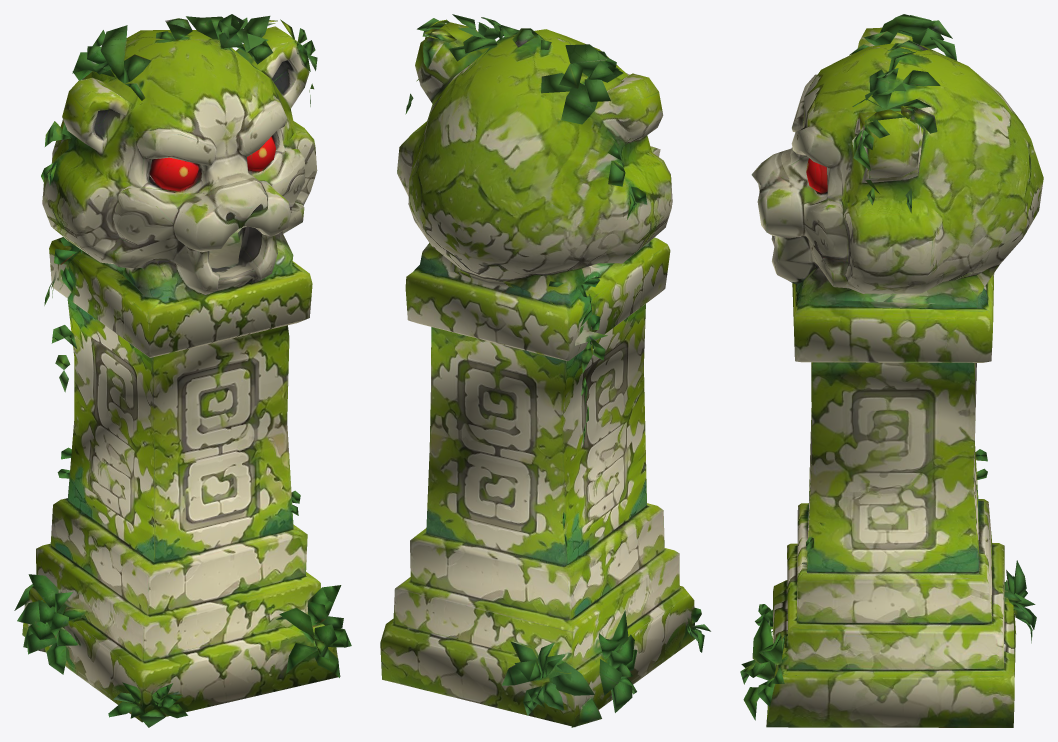
The model's file is Statue.fbx.
3 views of the same model, side by side, from view 1: azimuth 30°, elevation 25°; view 2: azimuth 150°, elevation 25°; view 3: azimuth 270°, elevation 25° (orthographic).
Visible parts, largest first — view 1: Statue; view 2: Statue; view 3: Statue.
Boxes of the visible parts, x1=… form: Statue: x1=14, y1=14, x2=351, y2=727; Statue: x1=380, y1=14, x2=710, y2=727; Statue: x1=740, y1=14, x2=1043, y2=727.
Bounding box in the file's own units: 0.7866 × 1.9 × 0.8139.
Materials: 1 (1 with a texture image).
